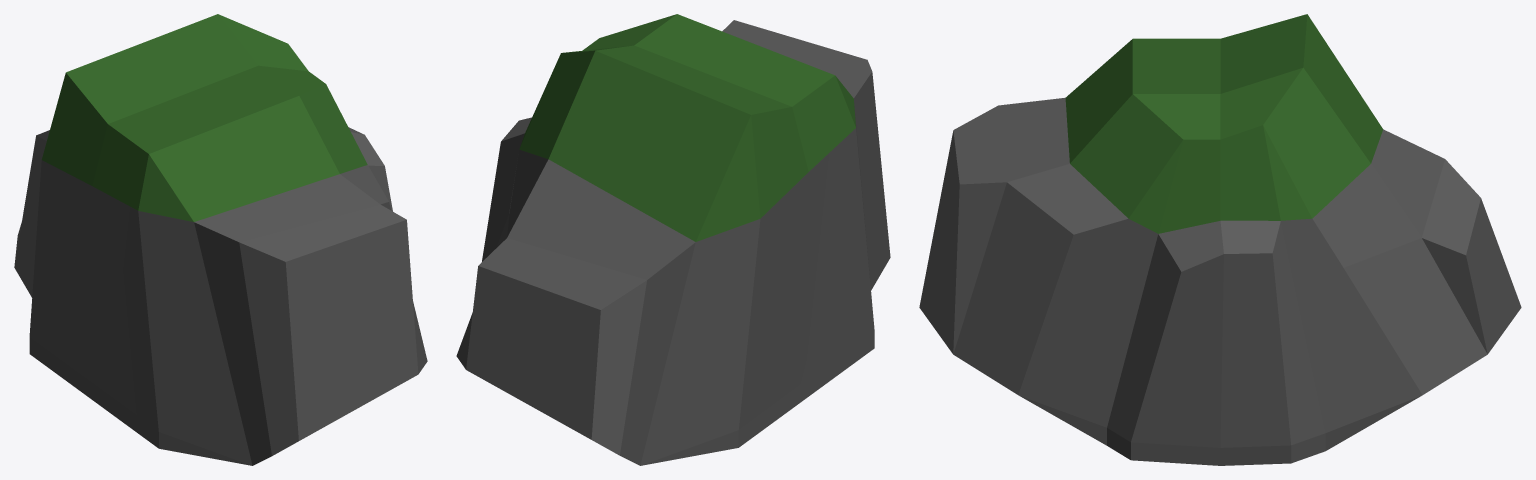
The model's file is Stain_3.fbx.
3 renders of one model, left to right at view 1: azimuth 30°, elevation 25°; view 2: azimuth 150°, elevation 25°; view 3: azimuth 270°, elevation 25°, orthographic. The views are drawn at different scales.
Parts seen in each view (by area): view 1: Rock_Moss_4; view 2: Rock_Moss_4; view 3: Rock_Moss_4.
Part boxes in pixels (<box>): Rock_Moss_4: <box>14,14,427,465</box>; Rock_Moss_4: <box>456,14,890,465</box>; Rock_Moss_4: <box>919,14,1521,465</box>.
Size of the model in its own units: 74.36 by 78.36 by 125.
